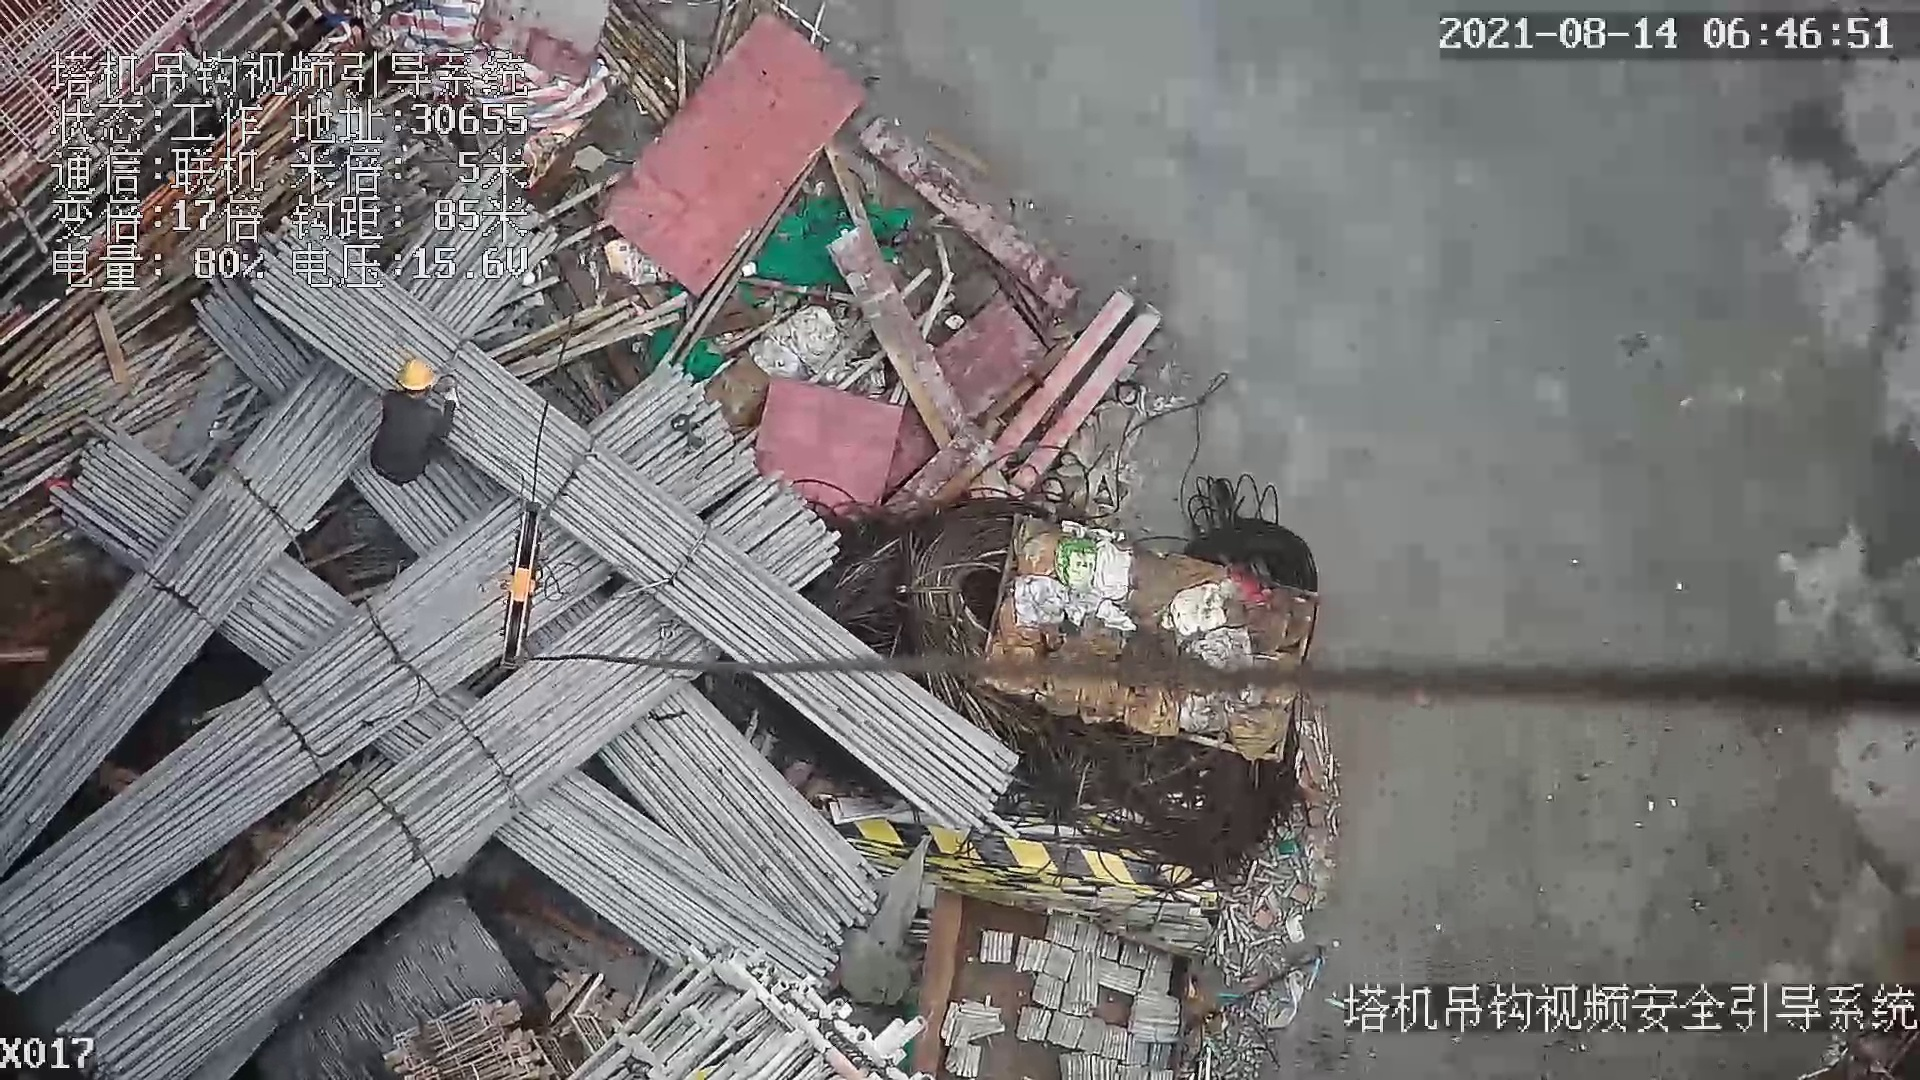board: (595, 11, 856, 302)
helmet: (392, 361, 433, 395)
hook: (491, 515, 545, 673)
person: (368, 354, 455, 481)
